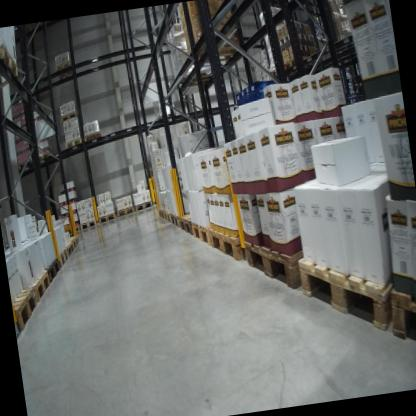pallet: (293, 231, 399, 351), (237, 217, 315, 299), (386, 277, 416, 350), (183, 31, 247, 65), (207, 216, 247, 265), (172, 63, 227, 98), (0, 42, 28, 101), (10, 283, 40, 335), (174, 205, 212, 243), (27, 269, 55, 311), (185, 215, 213, 254), (55, 52, 79, 87), (282, 54, 315, 77), (62, 131, 87, 156), (31, 148, 56, 170), (53, 107, 80, 127), (45, 255, 62, 286), (268, 62, 292, 83), (114, 201, 136, 220), (82, 123, 105, 140), (167, 205, 182, 230), (78, 216, 98, 234), (132, 194, 153, 211), (16, 159, 35, 177), (56, 246, 70, 269), (95, 211, 116, 225), (64, 239, 75, 260), (62, 225, 81, 237), (161, 206, 171, 224), (71, 233, 80, 249), (157, 204, 164, 221)
